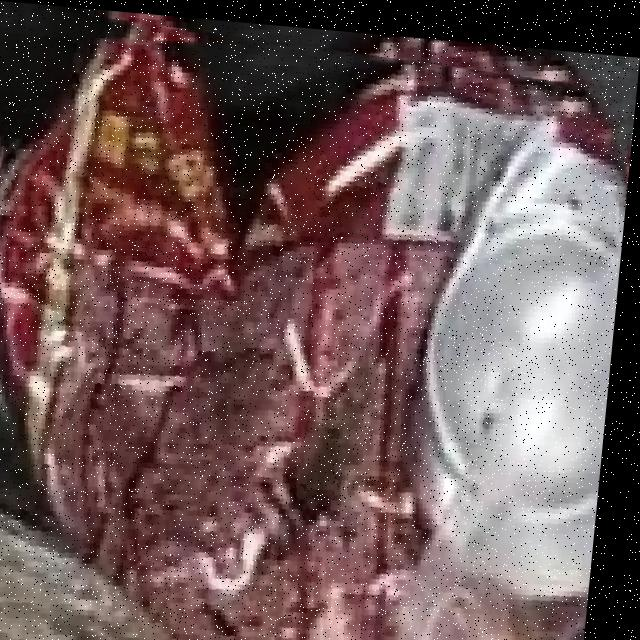litter: (0, 34, 623, 640)
